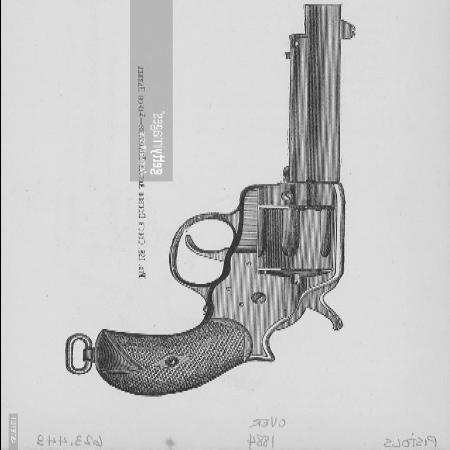Pistol: (66, 2, 362, 397)
